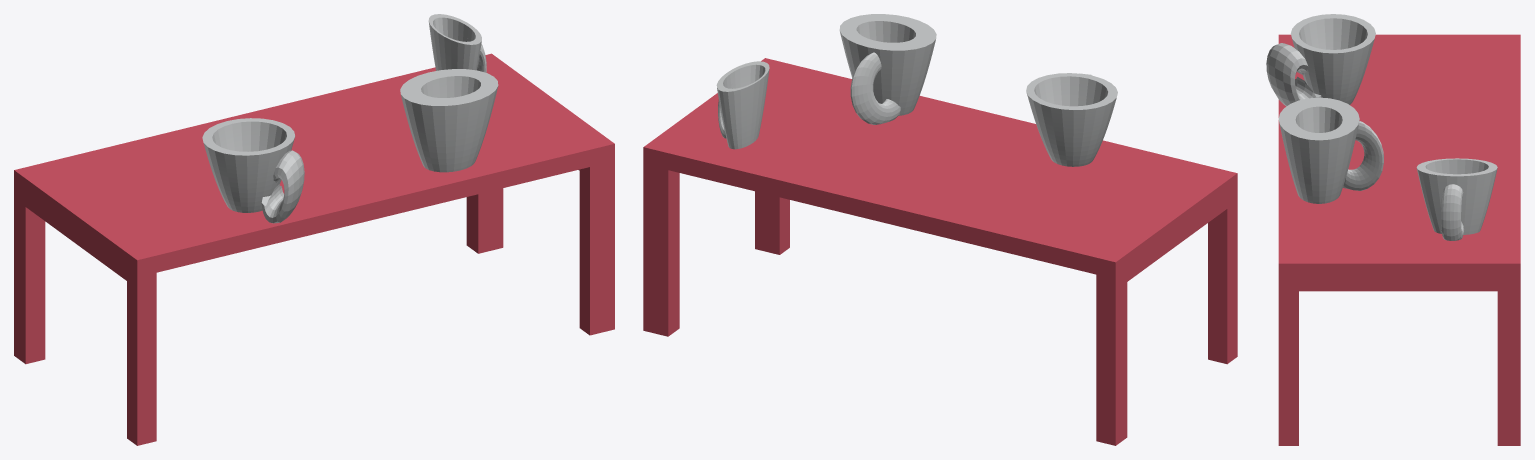
Rendered from MyFirstModel.glb.
3 renders of one model, left to right at view 1: azimuth 30°, elevation 25°; view 2: azimuth 150°, elevation 25°; view 3: azimuth 270°, elevation 25°, orthographic.
Visible parts, largest first — view 1: Mesh_Mesh_head_geo.001_lambert2SG.001; view 2: Mesh_Mesh_head_geo.001_lambert2SG.001; view 3: Mesh_Mesh_head_geo.001_lambert2SG.001.
Part boxes in pixels (bbox=[...]): Mesh_Mesh_head_geo.001_lambert2SG.001: bbox=[14, 14, 614, 445]; Mesh_Mesh_head_geo.001_lambert2SG.001: bbox=[643, 14, 1237, 445]; Mesh_Mesh_head_geo.001_lambert2SG.001: bbox=[1266, 14, 1520, 445].
Size of the model in its own units: 133 by 70 by 62.62.
